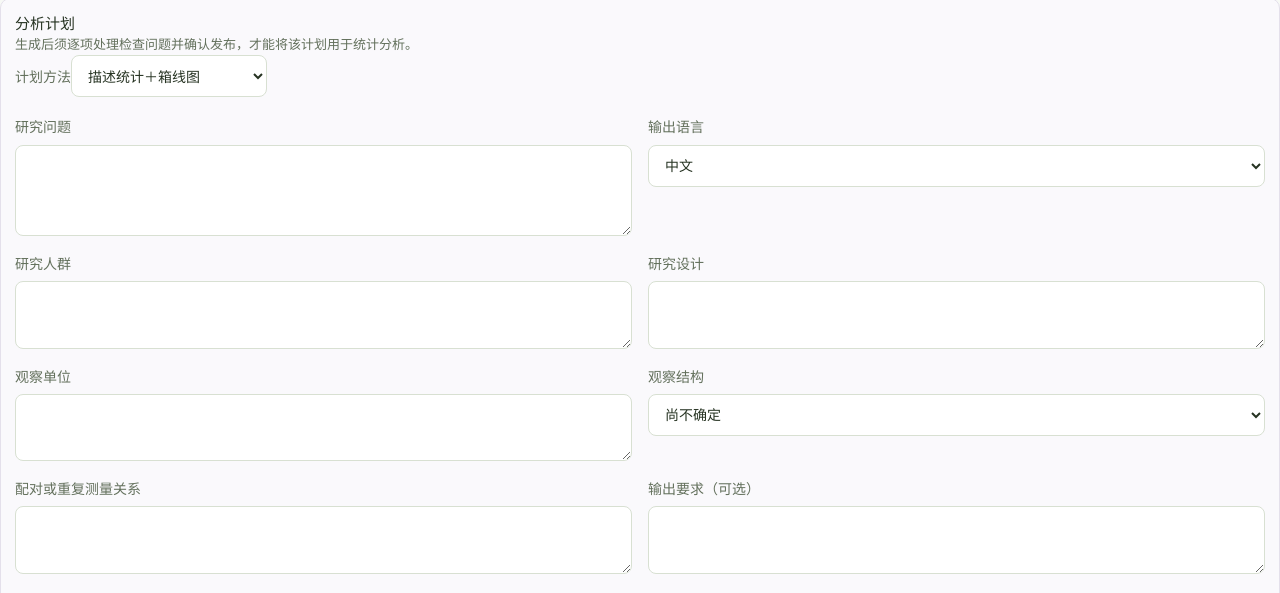
creates a plan for the selected prepared version and recovers it from a bounded list
Type "合成数据描述" into the text box labelled "研究问题" at (324, 190), box [15,144,632,236]
(page scrolled)
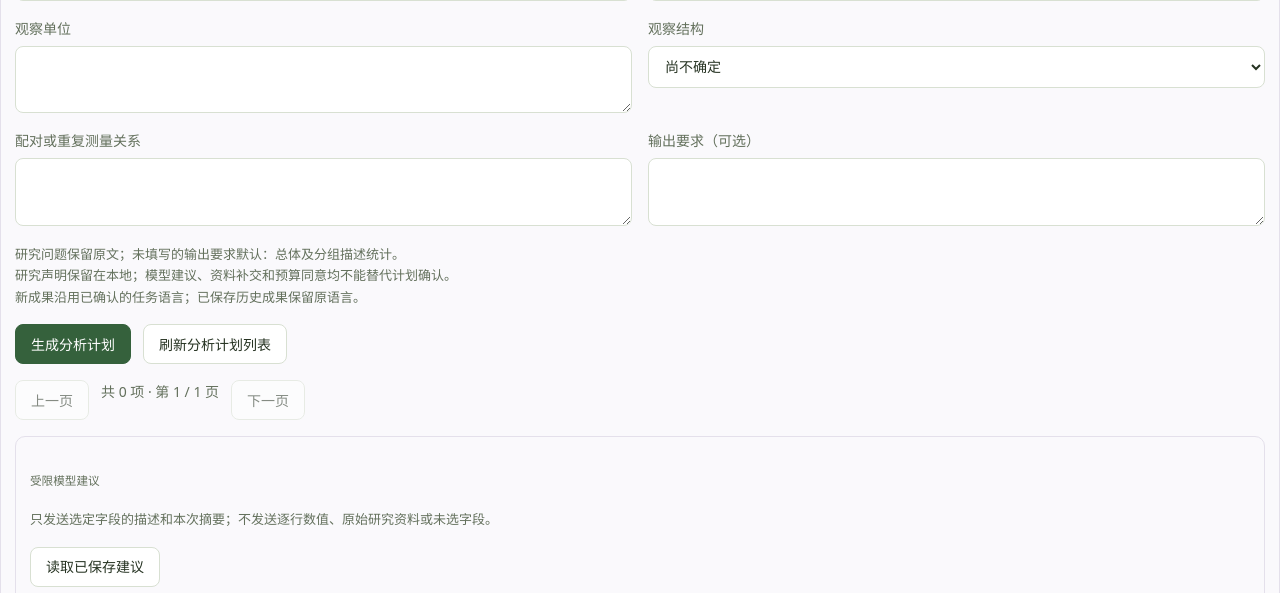
Click the button "生成分析计划" at (73, 344), box [15,324,131,364]
(page scrolled)
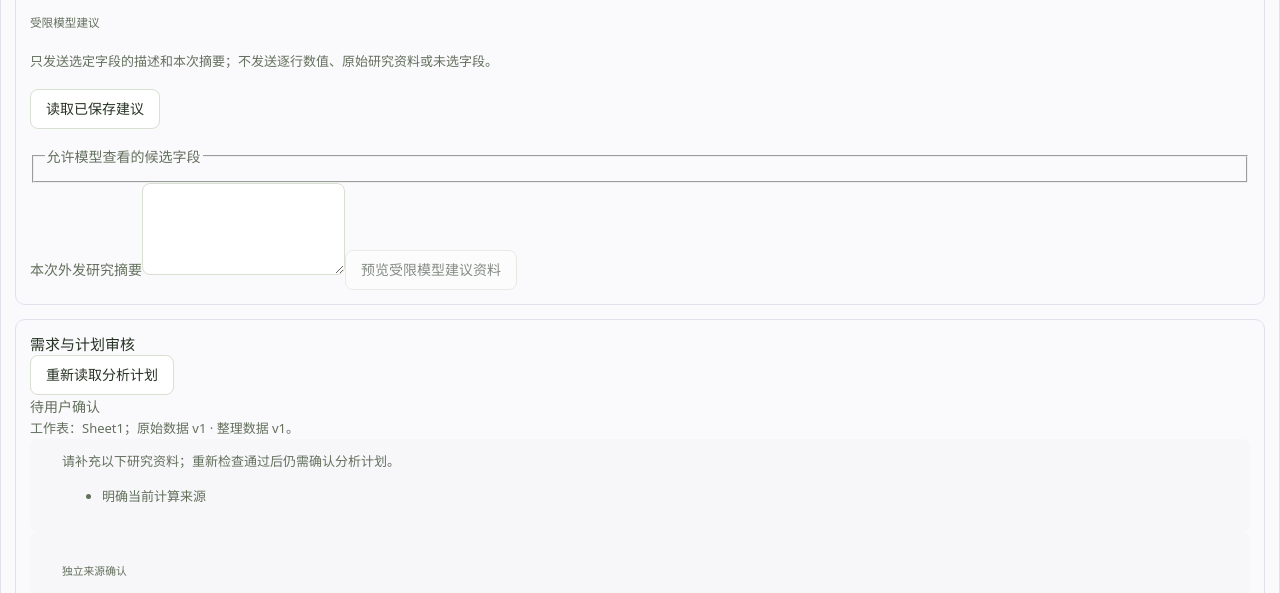
Result: the heading "需求与计划审核" is shown at [30,334,135,354]
